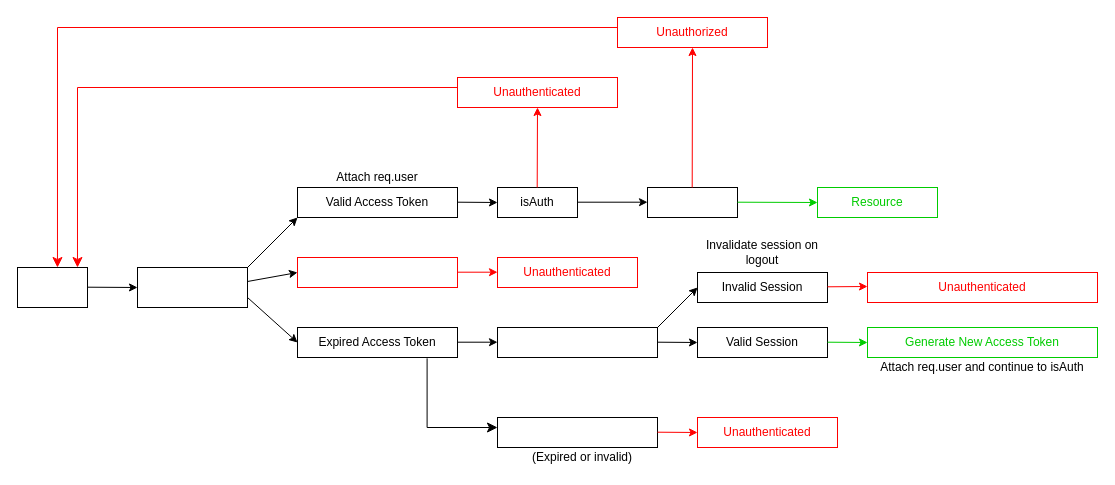
This 1115x485 diagram has some shape labels left out. Each missing label, with the centre of its shape:
Auth Middleware: the point at 192,287
Invalid Access Token: the point at 377,272
Invalid Refresh Token: the point at 577,432
isCoach: the point at 692,202
User: the point at 52,287
Valid Refresh Token: the point at 577,342
